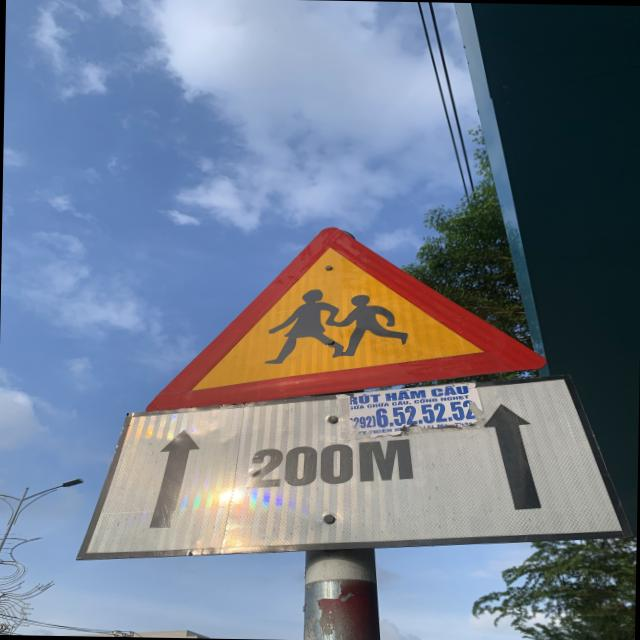Vong_Xuyen: (141, 223, 556, 420)
